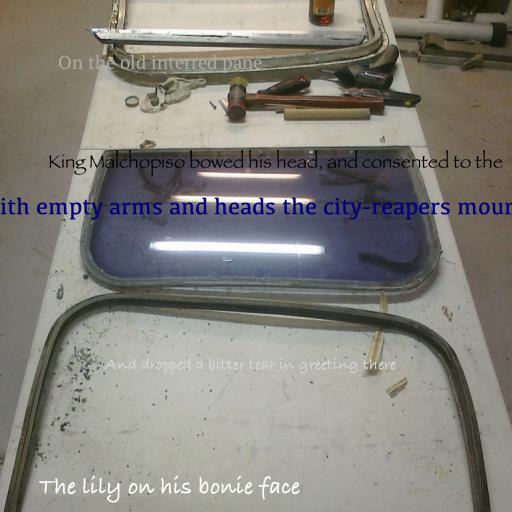Bradley Hand: (38, 475, 300, 503), (104, 357, 396, 375)
Kefa: (0, 197, 512, 220)
PT Serif: (58, 54, 262, 73)
Papyrus: (47, 149, 503, 177)
